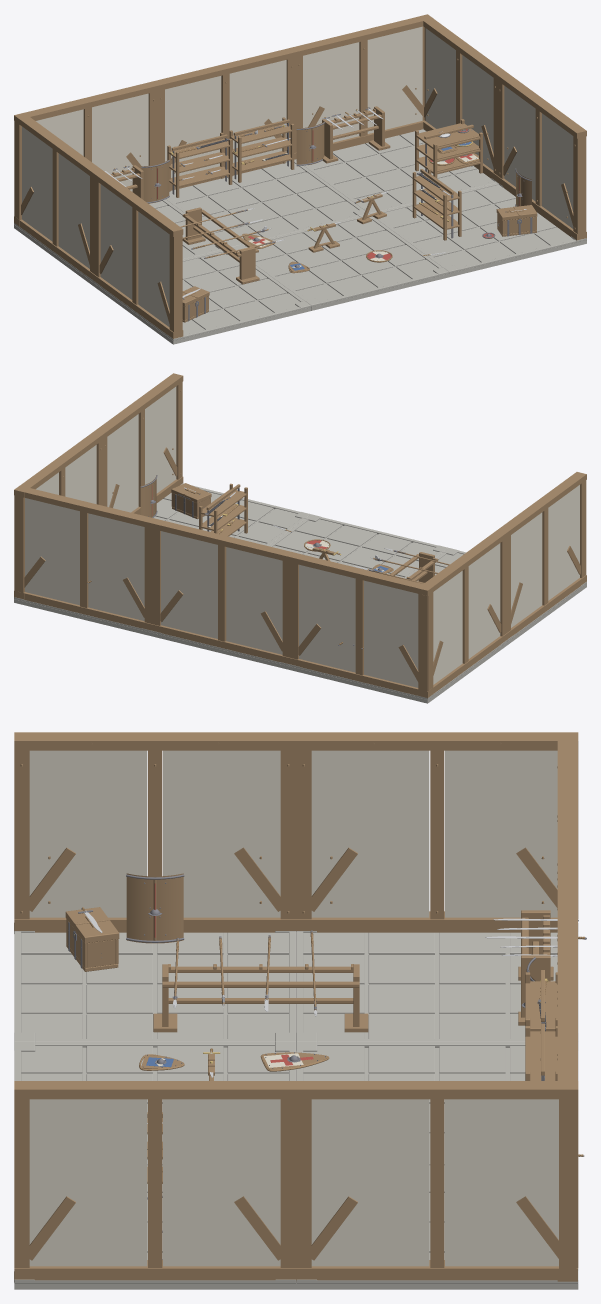
Rendered from armoury-ra-1aa5b4eb-starter-scene.glb.
3 views of the same model, one above another, from view 1: azimuth 30°, elevation 25°; view 2: azimuth 150°, elevation 25°; view 3: azimuth 270°, elevation 25° (orthographic). The views are drawn at different scales.
Parts seen in each view (by area): view 1: 003-armoury-floor-slab/0, 002-armoury-floor-slab/0, 008-armoury-wall-panel/1, 005-armoury-floor-slab/0, 007-armoury-wall-panel/1, 001-armoury-floor-slab/0, 004-armoury-floor-slab/0, 011-armoury-wall-panel/1, 009-armoury-wall-panel/1, 012-armoury-wall-panel/1, 006-armoury-wall-panel/1, 011-armoury-wall-panel/0 (+20 smaller); view 2: 007-armoury-wall-panel/1, 008-armoury-wall-panel/1, 006-armoury-wall-panel/1, 007-armoury-wall-panel/0, 011-armoury-wall-panel/1, 009-armoury-wall-panel/1, 006-armoury-wall-panel/0, 012-armoury-wall-panel/1, 003-armoury-floor-slab/0, 008-armoury-wall-panel/0, 009-armoury-wall-panel/0, 011-armoury-wall-panel/0 (+13 smaller); view 3: 012-armoury-wall-panel/1, 010-armoury-wall-panel/1, 009-armoury-wall-panel/1, 011-armoury-wall-panel/1, 001-armoury-floor-slab/0, 000-armoury-floor-slab/0, 012-armoury-wall-panel/0, 011-armoury-wall-panel/0, 010-armoury-wall-panel/0, 009-armoury-wall-panel/0, 003-armoury-floor-slab/0, 002-armoury-floor-slab/0 (+12 smaller).
Boxes of the visible parts, x1,y1,x2,y2 form: 003-armoury-floor-slab/0: [232, 213, 448, 310]; 002-armoury-floor-slab/0: [166, 159, 368, 246]; 008-armoury-wall-panel/1: [303, 26, 422, 142]; 005-armoury-floor-slab/0: [370, 182, 586, 277]; 007-armoury-wall-panel/1: [165, 60, 286, 177]; 001-armoury-floor-slab/0: [93, 250, 310, 344]; 004-armoury-floor-slab/0: [295, 128, 496, 213]; 011-armoury-wall-panel/1: [100, 184, 169, 327]; 009-armoury-wall-panel/1: [22, 126, 89, 268]; 012-armoury-wall-panel/1: [504, 86, 573, 228]; 006-armoury-wall-panel/1: [36, 93, 148, 191]; 011-armoury-wall-panel/0: [93, 171, 183, 338]; 007-armoury-wall-panel/1: [161, 531, 282, 654]; 008-armoury-wall-panel/1: [25, 498, 144, 620]; 006-armoury-wall-panel/1: [299, 564, 418, 687]; 007-armoury-wall-panel/0: [152, 519, 295, 664]; 011-armoury-wall-panel/1: [511, 485, 579, 627]; 009-armoury-wall-panel/1: [433, 543, 500, 684]; 006-armoury-wall-panel/0: [290, 553, 433, 698]; 012-armoury-wall-panel/1: [107, 386, 176, 512]; 003-armoury-floor-slab/0: [268, 514, 448, 578]; 008-armoury-wall-panel/0: [14, 486, 157, 630]; 009-armoury-wall-panel/0: [417, 530, 507, 697]; 011-armoury-wall-panel/0: [498, 472, 586, 639]; 012-armoury-wall-panel/1: [29, 1099, 280, 1266]; 010-armoury-wall-panel/1: [311, 1099, 558, 1266]; 009-armoury-wall-panel/1: [311, 750, 557, 917]; 011-armoury-wall-panel/1: [29, 750, 280, 917]; 001-armoury-floor-slab/0: [14, 923, 296, 1041]; 000-armoury-floor-slab/0: [296, 923, 578, 1041]; 012-armoury-wall-panel/0: [14, 1081, 296, 1280]; 011-armoury-wall-panel/0: [14, 732, 296, 932]; 010-armoury-wall-panel/0: [296, 1081, 578, 1280]; 009-armoury-wall-panel/0: [296, 732, 578, 932]; 003-armoury-floor-slab/0: [14, 1041, 296, 1161]; 002-armoury-floor-slab/0: [296, 1041, 578, 1161].
Bounding box in the file's own units: 12 × 3.13 × 8.13.
